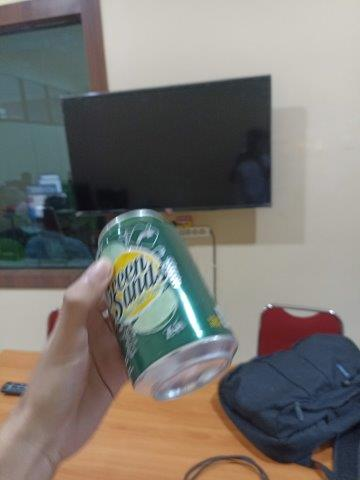kaleng: (95, 208, 238, 402)
